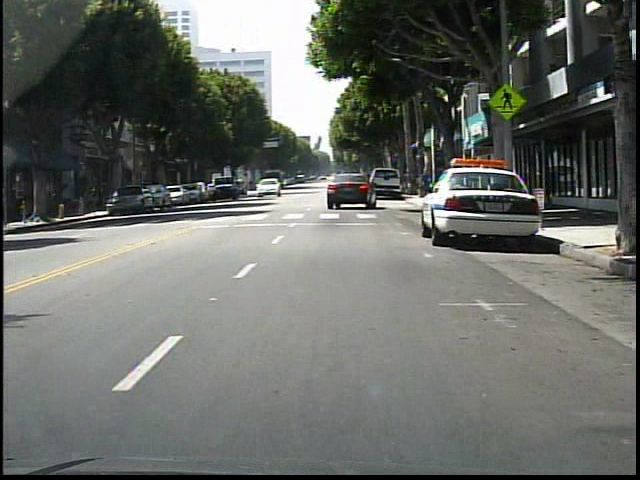person: (418, 165, 439, 205)
